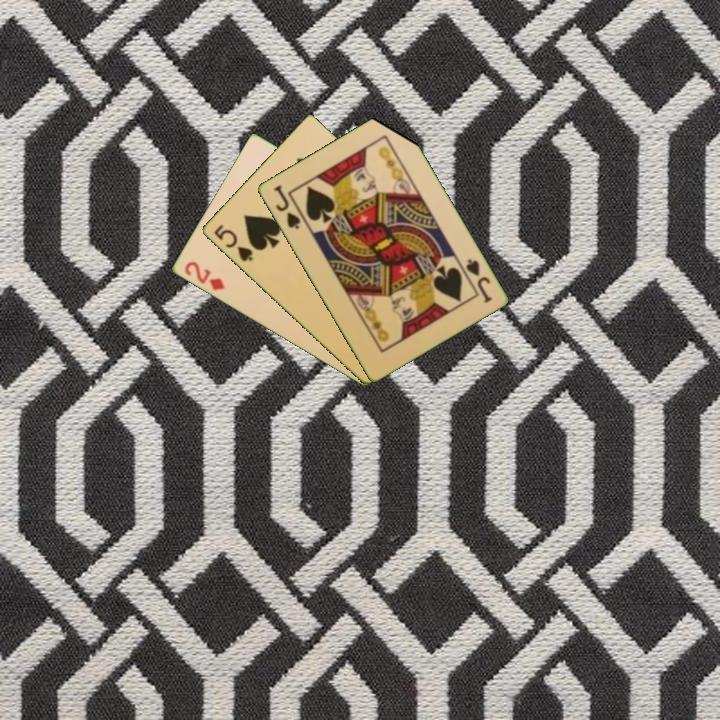2d: (181, 258, 227, 293)
5s: (210, 221, 255, 265)
Js: (270, 181, 303, 232), (462, 255, 494, 306)
